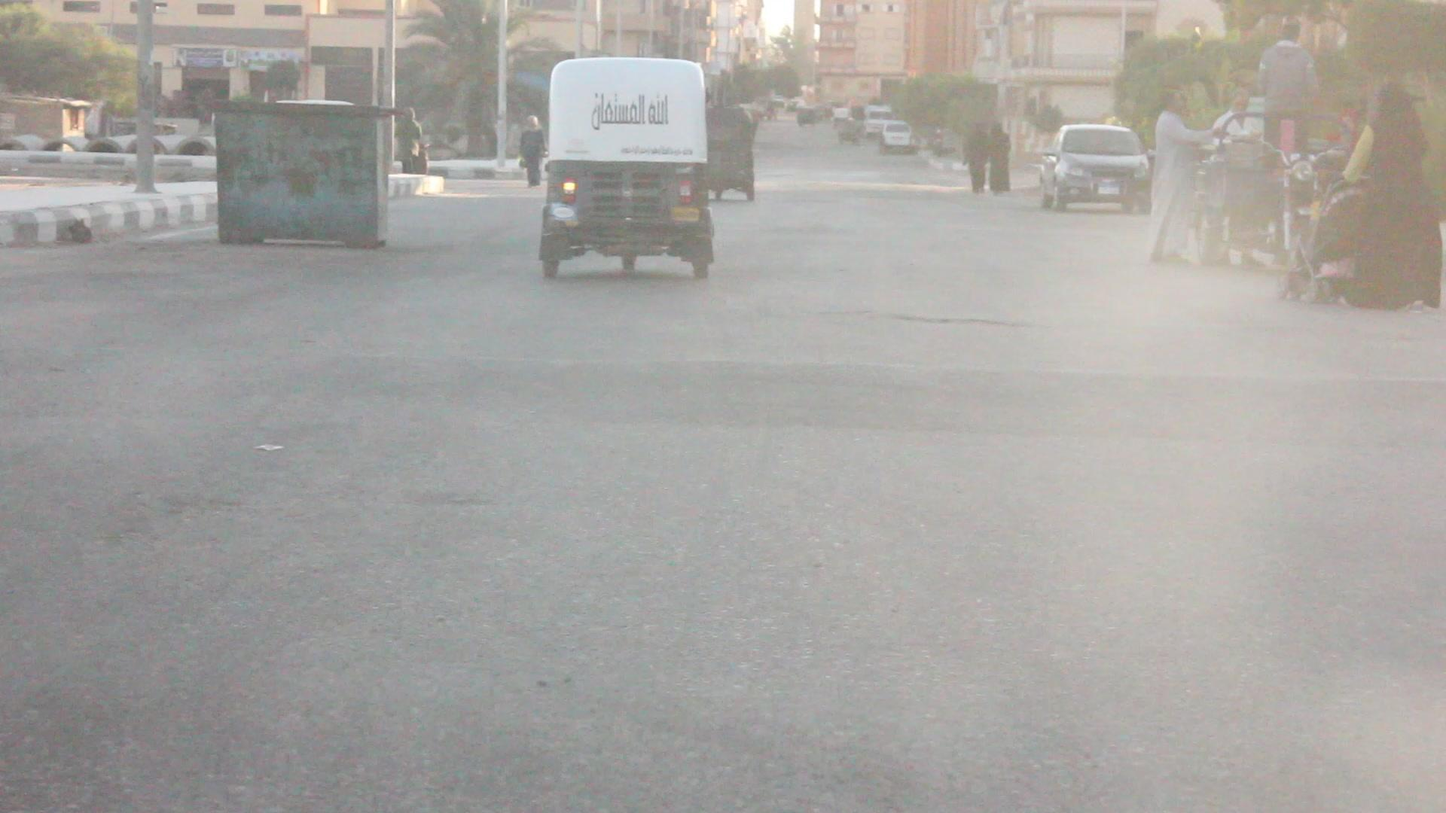Bump: (0, 344, 1446, 454)
